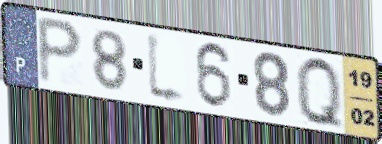6: (193, 40, 237, 111)
8: (251, 50, 292, 119), (87, 28, 130, 92)
L: (145, 28, 190, 110)
P: (35, 13, 85, 87)
Q: (294, 53, 347, 134)
